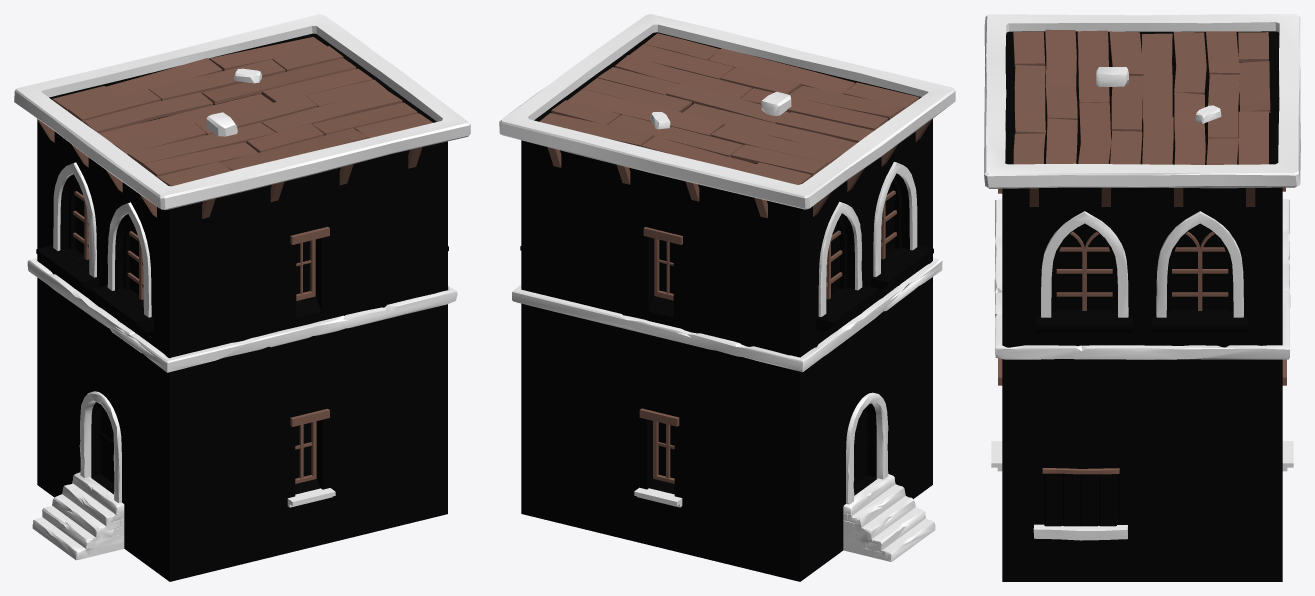
Rendered from civilian_house_01.FBX.
The picture shows the model from 3 angles, left to right: view 1: azimuth 30°, elevation 25°; view 2: azimuth 150°, elevation 25°; view 3: azimuth 270°, elevation 25°; orthographic projection. The views are drawn at different scales.
Visible parts, largest first — view 1: civilian_house_01_LOD0; view 2: civilian_house_01_LOD0; view 3: civilian_house_01_LOD0.
Boxes of the visible parts, x1,y1,x2,y2 form: civilian_house_01_LOD0: [14, 14, 470, 581]; civilian_house_01_LOD0: [499, 14, 955, 581]; civilian_house_01_LOD0: [984, 14, 1300, 581].
Size of what is drawn, in the model's own units: 987 by 1096 by 747.
